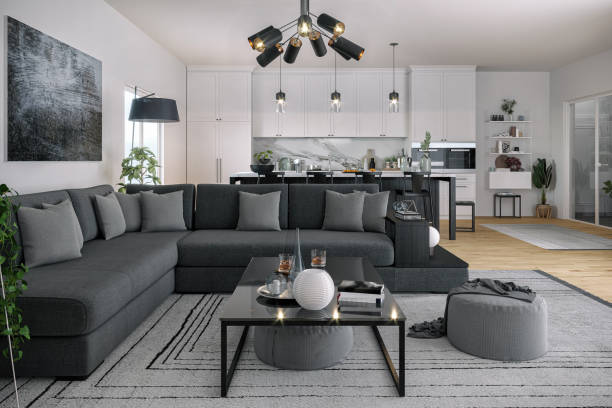floor lamp: (123, 84, 183, 186)
large plant: (529, 153, 557, 219), (119, 143, 160, 188)
small plant: (248, 149, 276, 177), (501, 96, 516, 120)
sofa: (1, 181, 397, 386)
table: (217, 255, 407, 398)
wall art: (4, 12, 104, 163)
